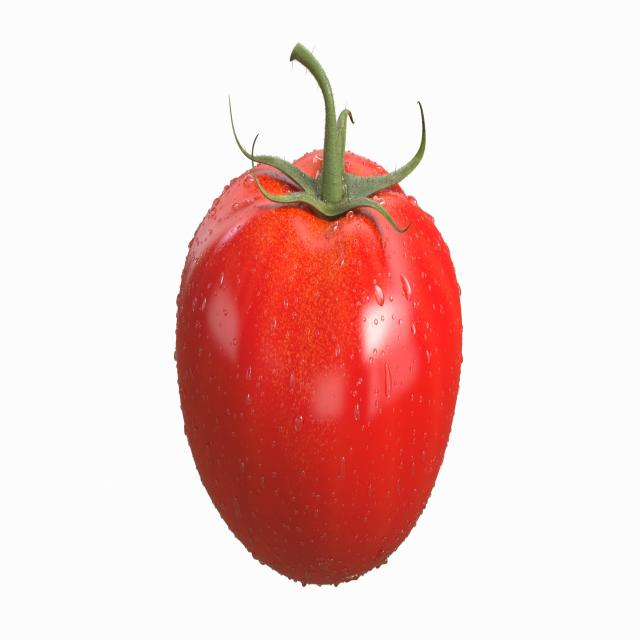Tomato: (177, 32, 465, 588)
